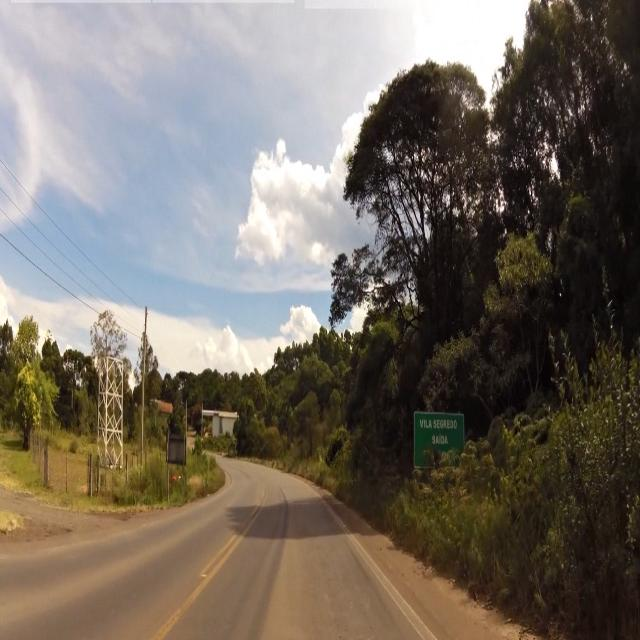I-4: (413, 410, 470, 472)
